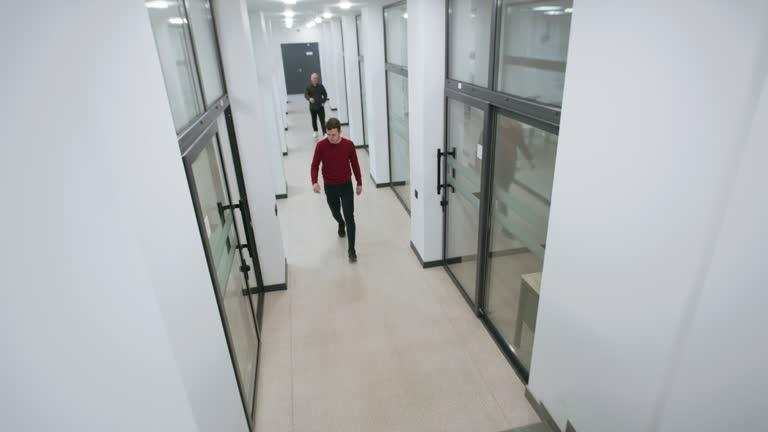long sleeve shirt: (304, 83, 328, 112)
sweater: (310, 136, 364, 186)
trousers: (323, 179, 357, 250), (309, 105, 327, 134)
